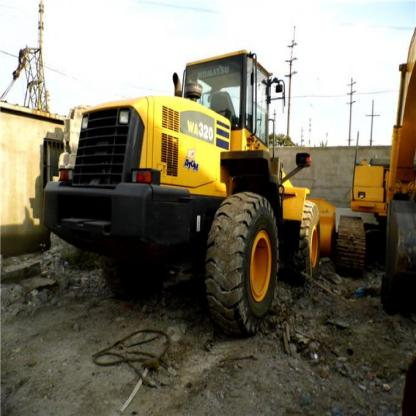bull_dozer/loader/grader: (29, 33, 340, 345)
